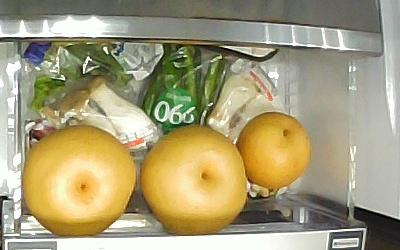pear: (22, 125, 135, 237), (144, 126, 246, 237), (237, 112, 313, 191)
